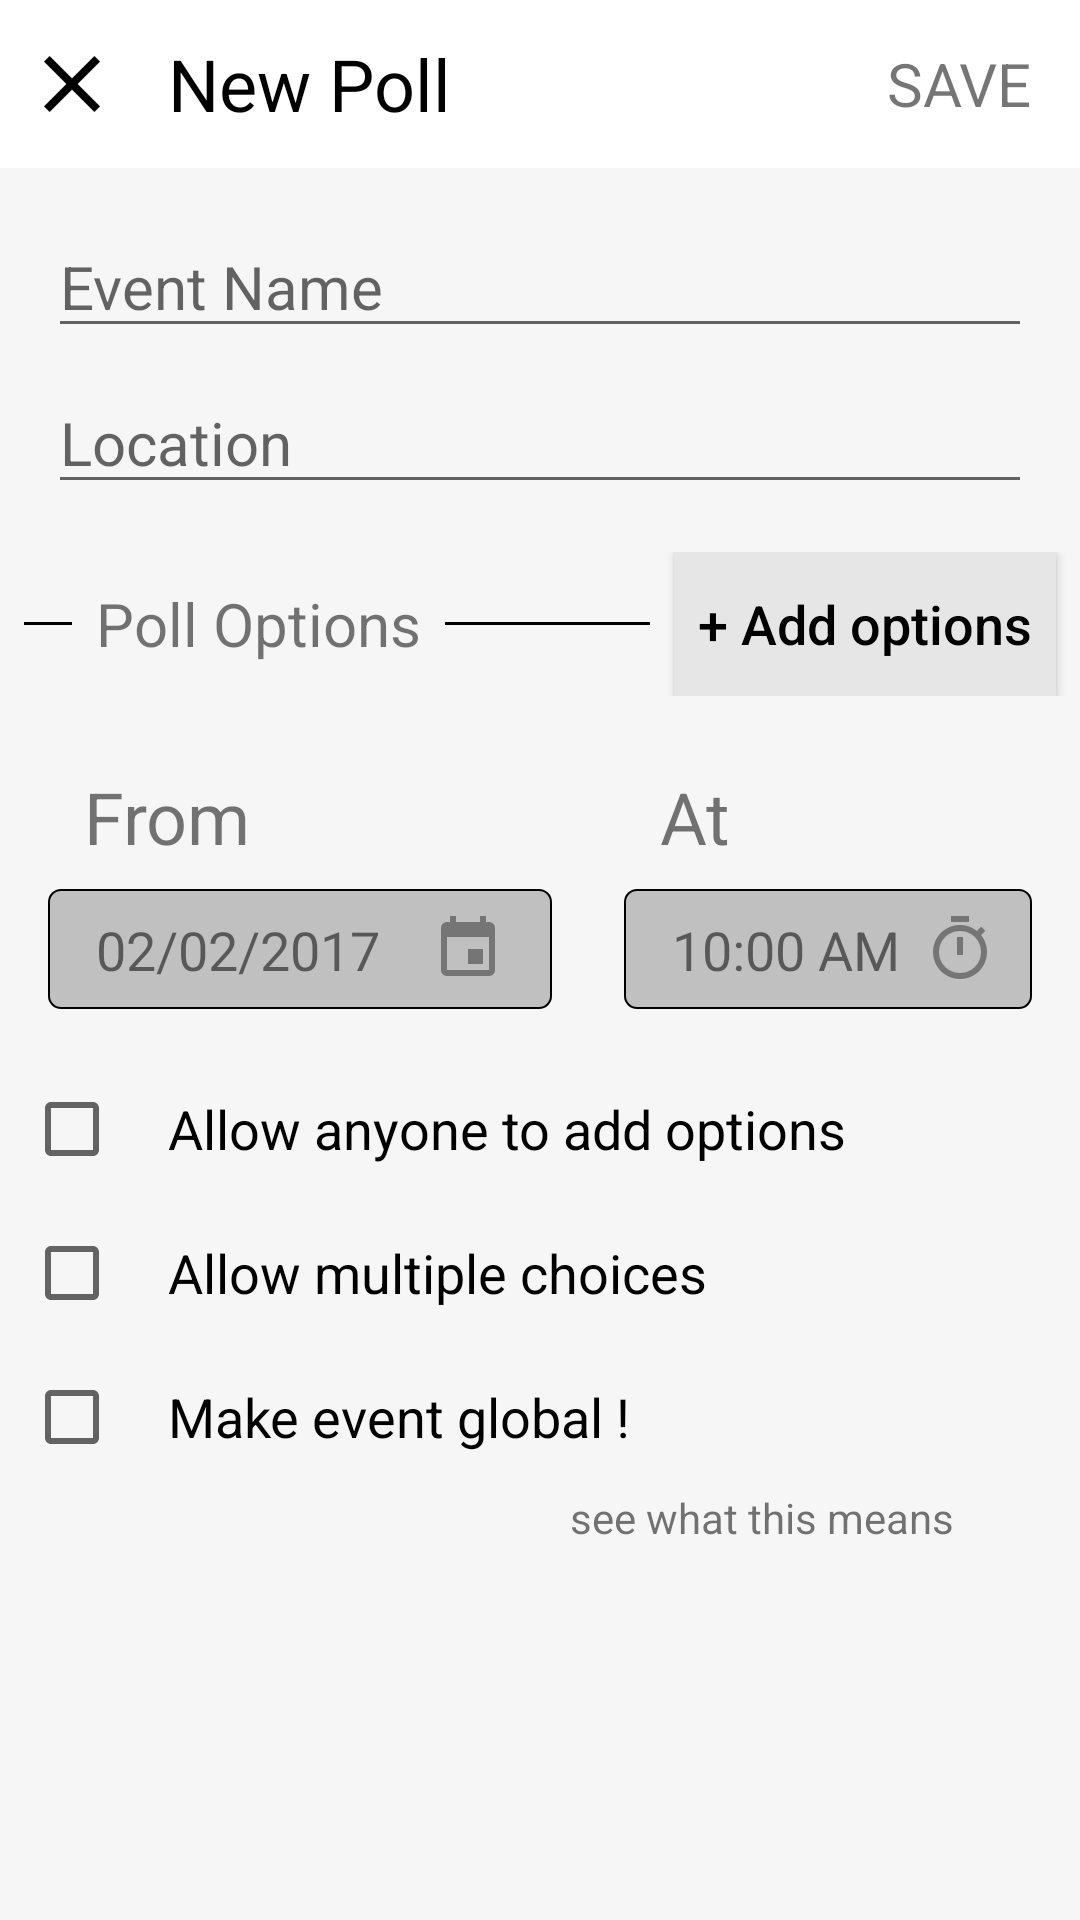

Icons on this 1080*1920 Android screen, each with the point to tap as (x,y):
calendar: (468,946)
close: (72,84)
timer: (960,947)
